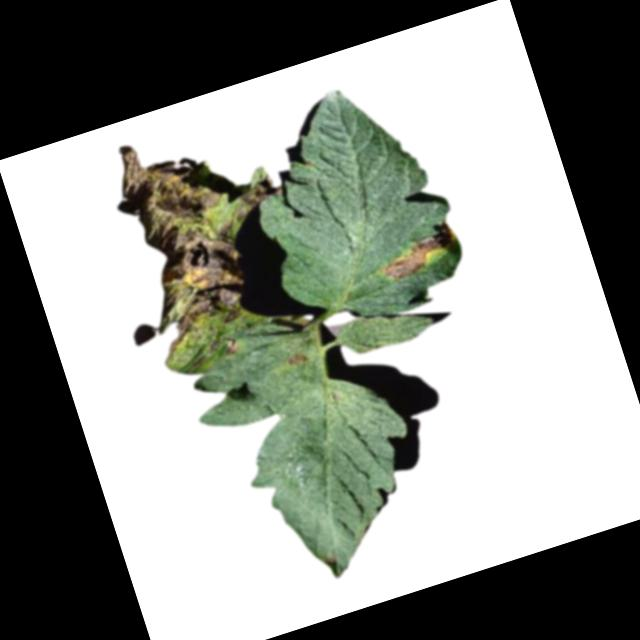Early_blight: (99, 103, 324, 373), (369, 212, 469, 288), (285, 349, 308, 367)
